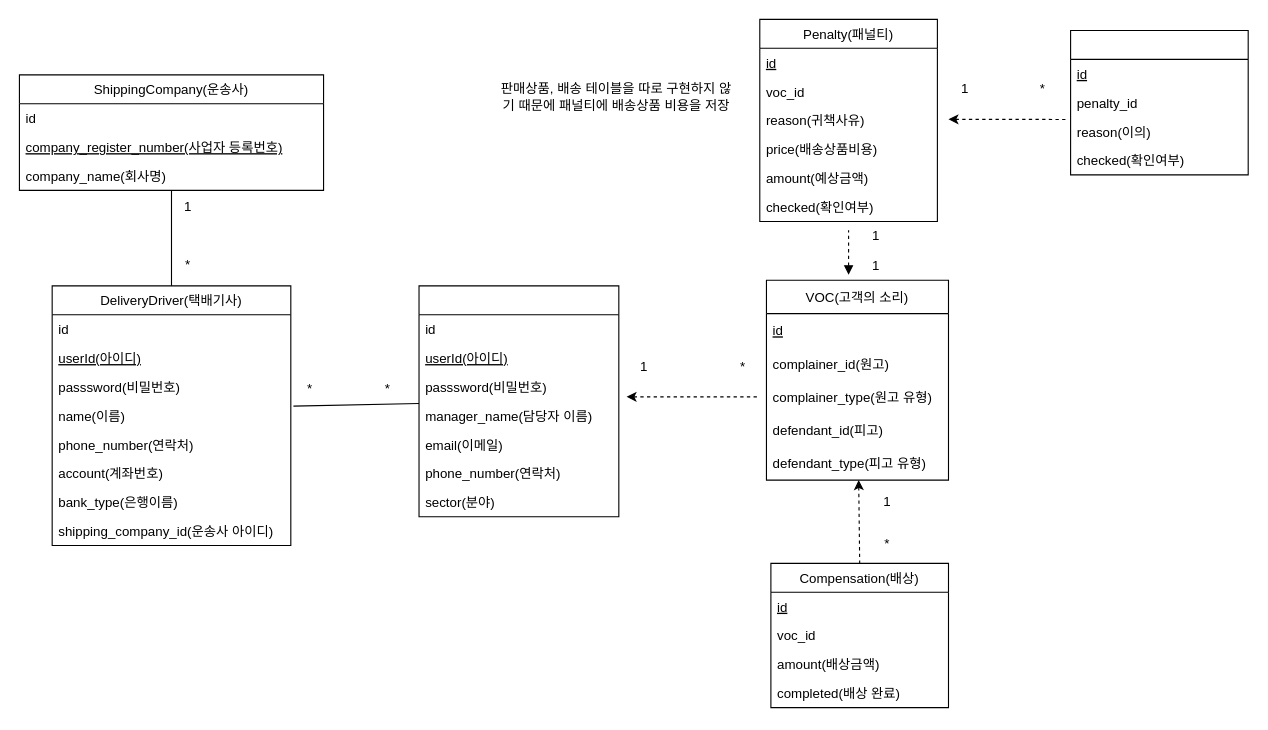
The diagram is 1268 pixels wide and 730 high, and some of its shapes have lost their labels. Here are the shapes that lost their labels. From the top down, the box of each, then its label:
(1069, 29, 1248, 175): complaint(이의제기)
(418, 285, 619, 517): Provider(제품판매자)
